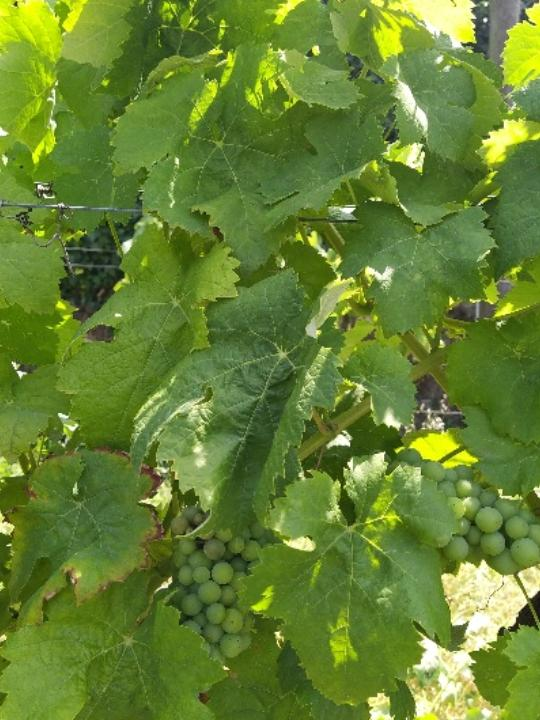grape: (381, 442, 540, 579), (165, 504, 273, 670)
